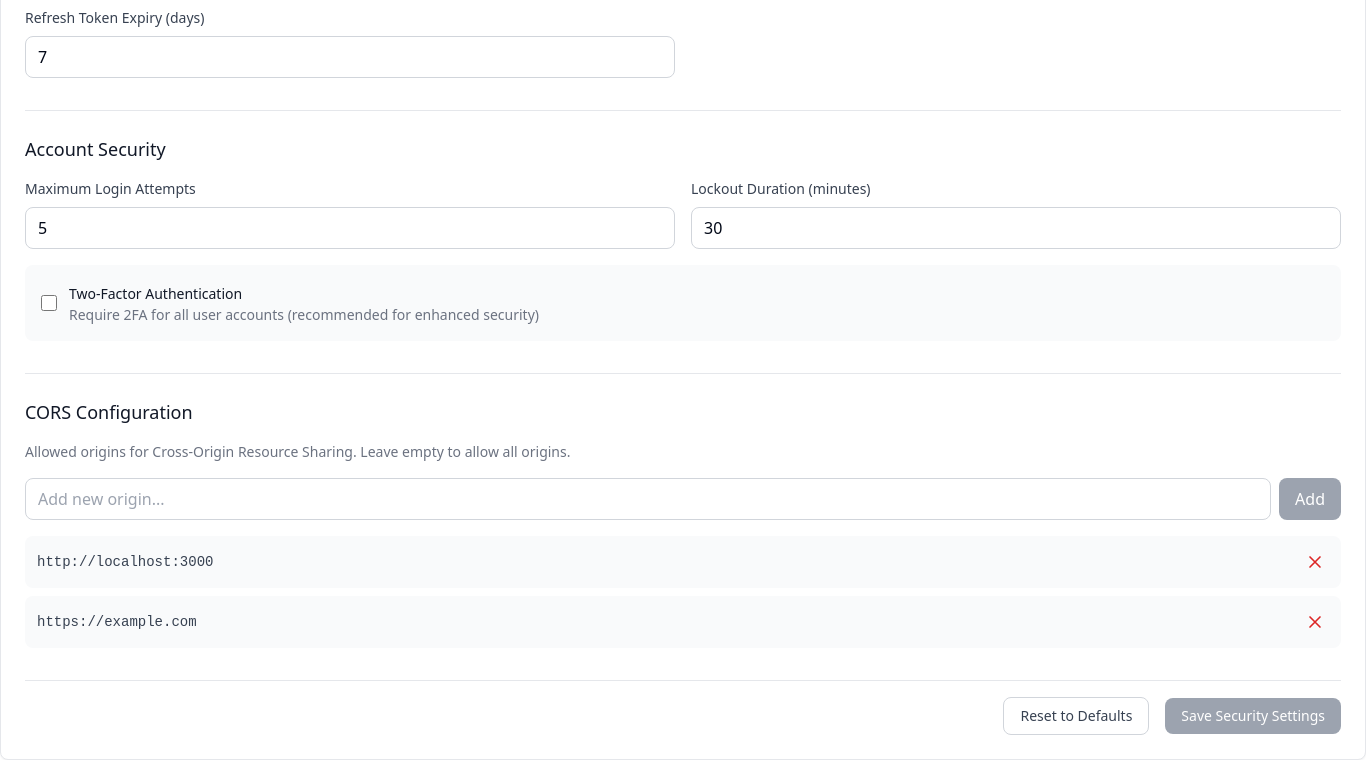
Test case: SecuritySettings › allows removing CORS origin
This screenshot has width=1366, height=760.
(page scrolled)
Expected: the text "http://localhost:3000" is shown, [37, 552, 213, 572]
Click the button named "remove" in the row of "http://localhost:3000": click(1315, 562) [1301, 548, 1329, 576]
(page scrolled)
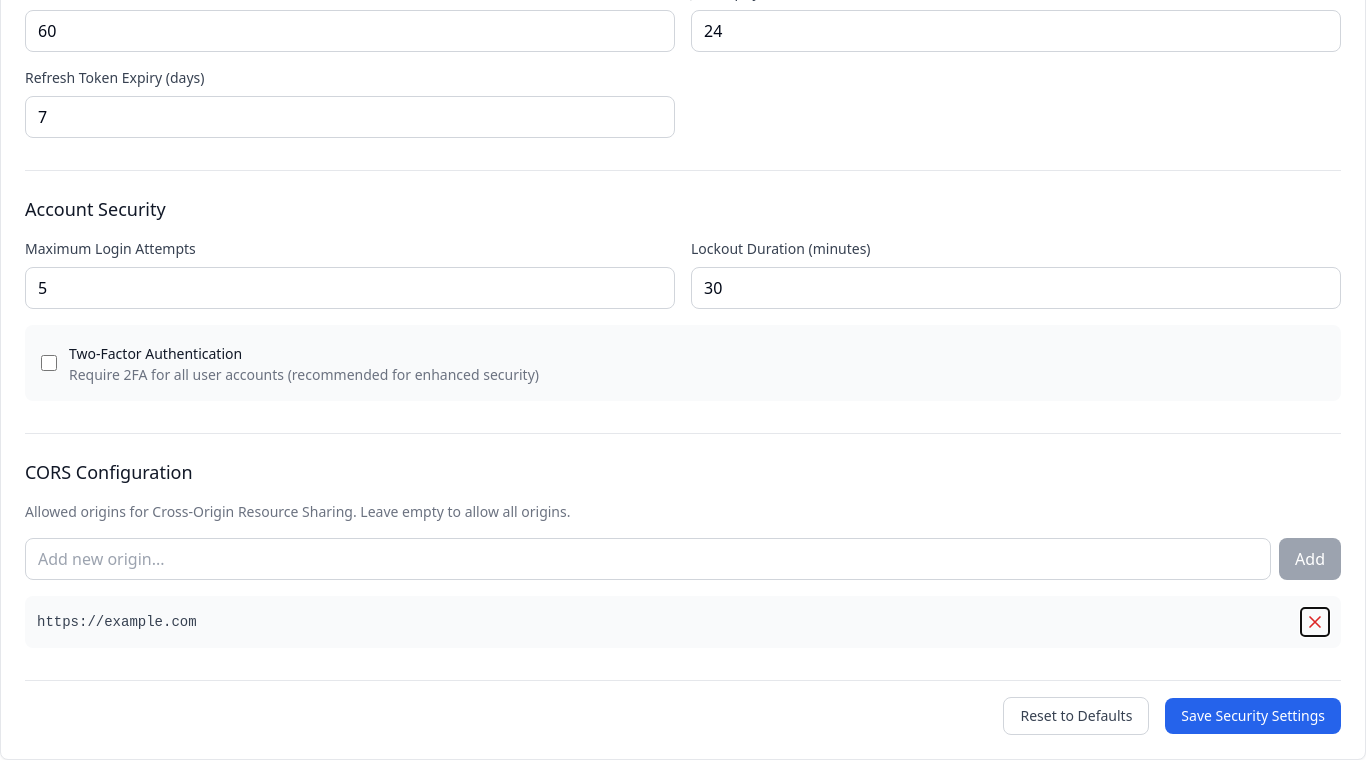
Expected: the text "http://localhost:3000" is gone
